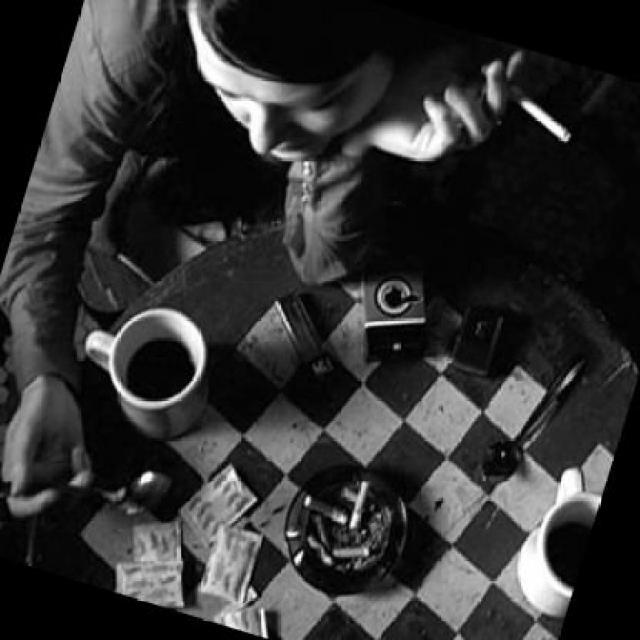smoke: (463, 62, 585, 146)
